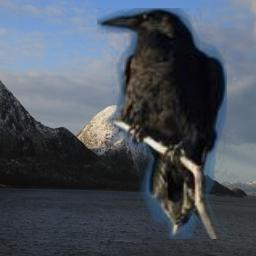Crow: (97, 8, 227, 239)
